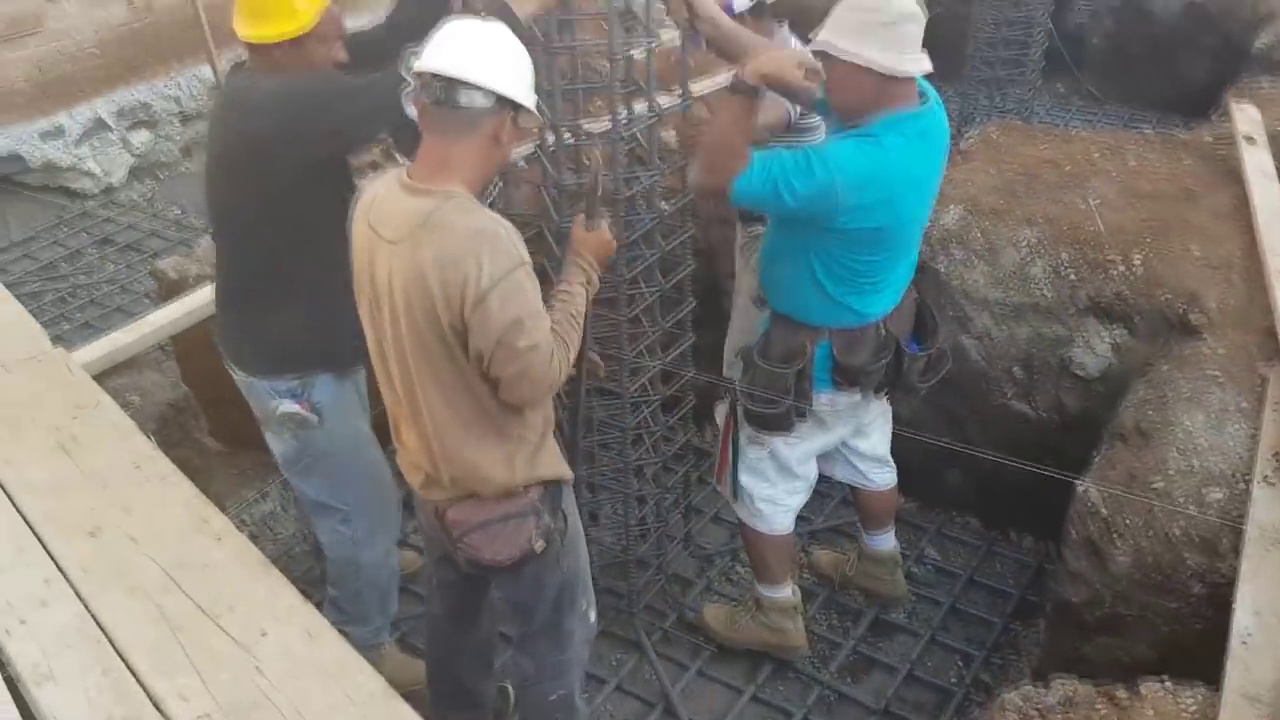helmet: (406, 17, 550, 135), (228, 1, 330, 47)
helmet-off: (808, 2, 939, 122)
helmet-on: (403, 12, 542, 198), (228, 0, 340, 80)
person: (349, 8, 598, 720), (684, 1, 950, 663), (200, 4, 430, 684), (655, 4, 831, 384)
